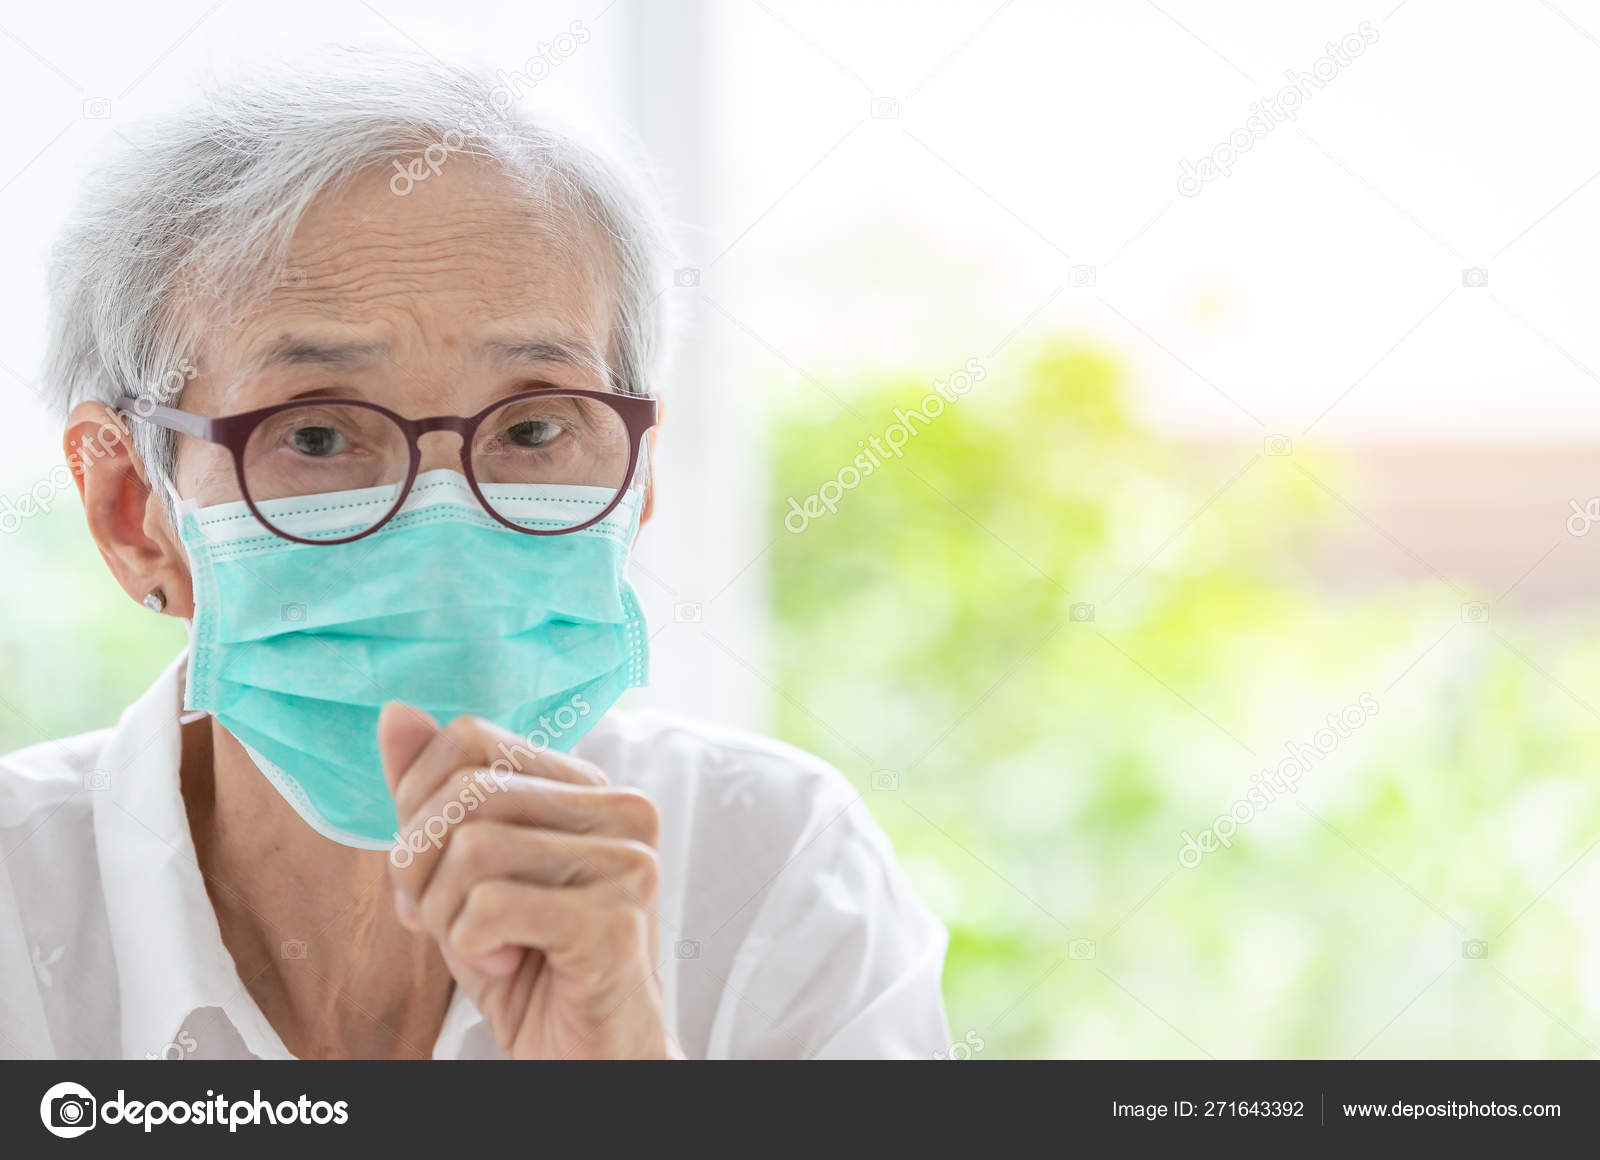mask: (153, 472, 688, 843)
